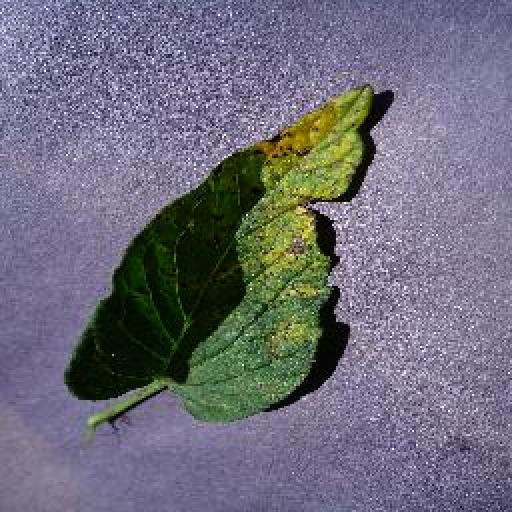disease_tomato: (61, 82, 375, 420)
